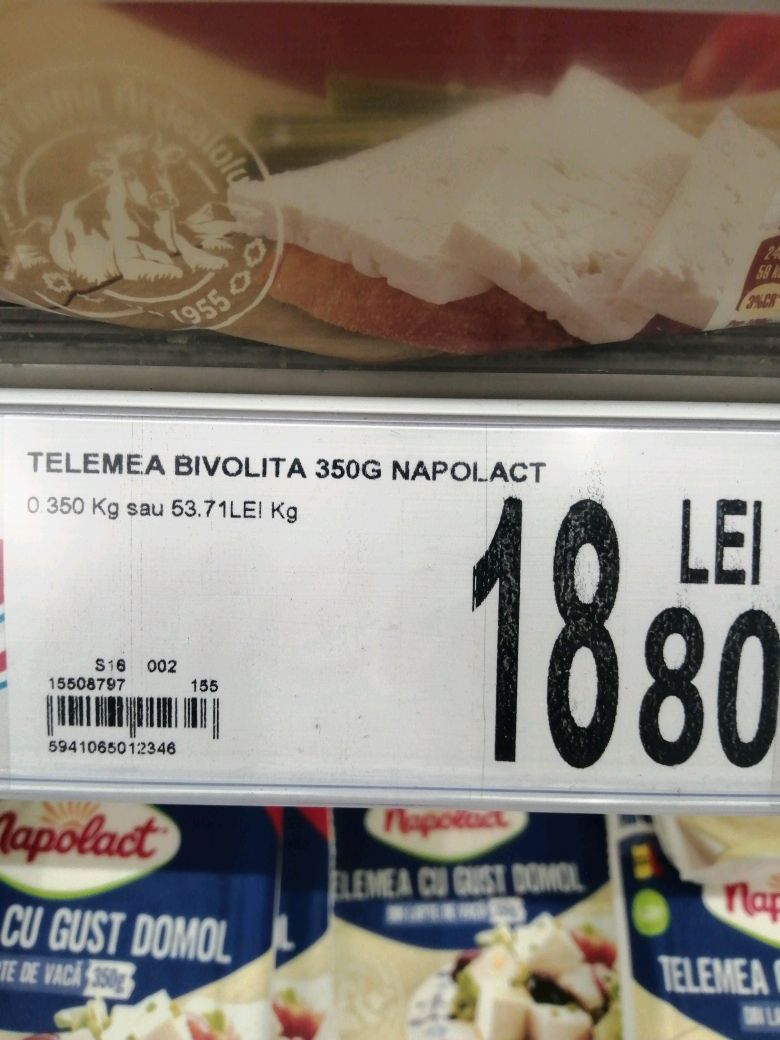price_bani: (635, 599, 780, 780)
price_lei: (463, 494, 626, 778)
price_tag: (2, 407, 780, 813)
product_id: (36, 735, 189, 764)
product_name: (14, 439, 557, 490)
